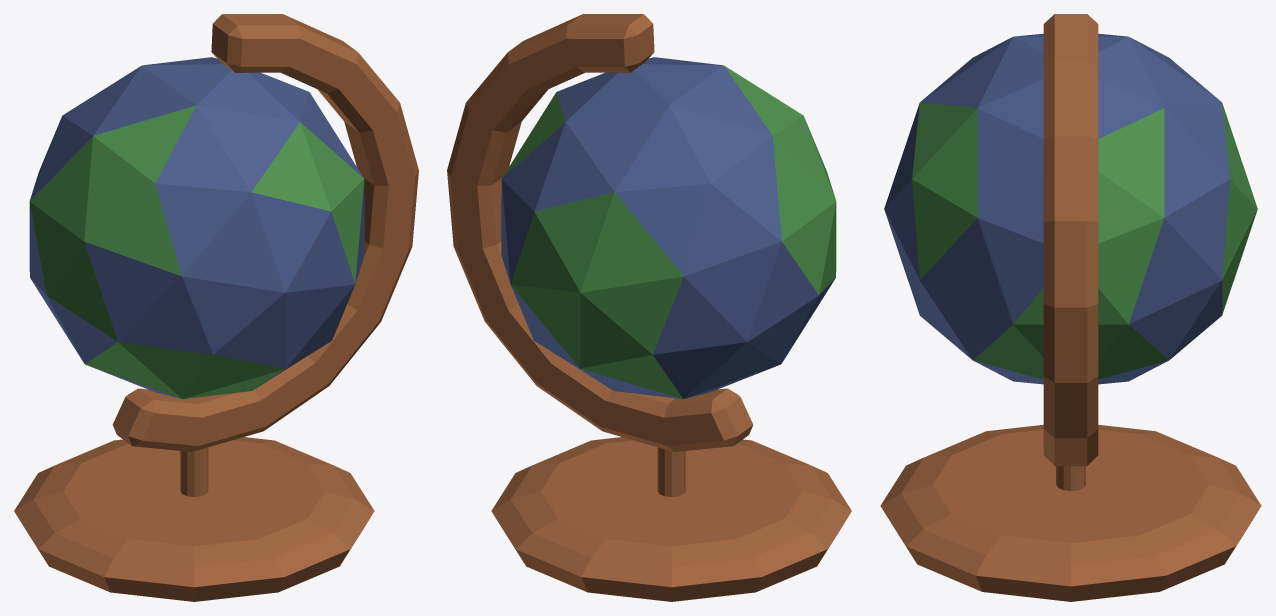
Rendered from Globe.glb.
3 views of the same model, side by side, from view 1: azimuth 30°, elevation 25°; view 2: azimuth 150°, elevation 25°; view 3: azimuth 270°, elevation 25° (orthographic). The views are drawn at different scales.
Parts seen in each view (by area): view 1: Globe; view 2: Globe; view 3: Globe.
Boxes of the visible parts, x1,y1,x2,y2 form: Globe: (14,14,418,601); Globe: (447,14,851,601); Globe: (880,14,1261,601).
Bounding box in the file's own units: 166 × 213 × 139.
